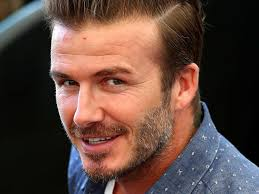white_male: (43, 25, 175, 162)
